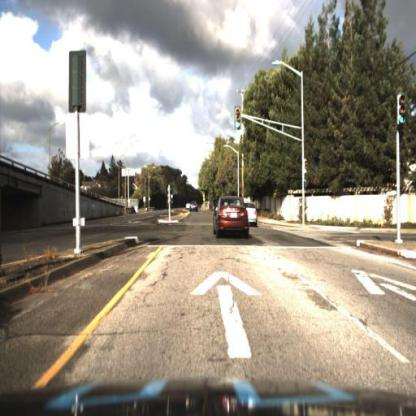car: (214, 194, 257, 241), (242, 204, 258, 225), (190, 198, 200, 214)
trafficLight-Green: (396, 97, 410, 128), (236, 110, 244, 137), (237, 107, 242, 135)
